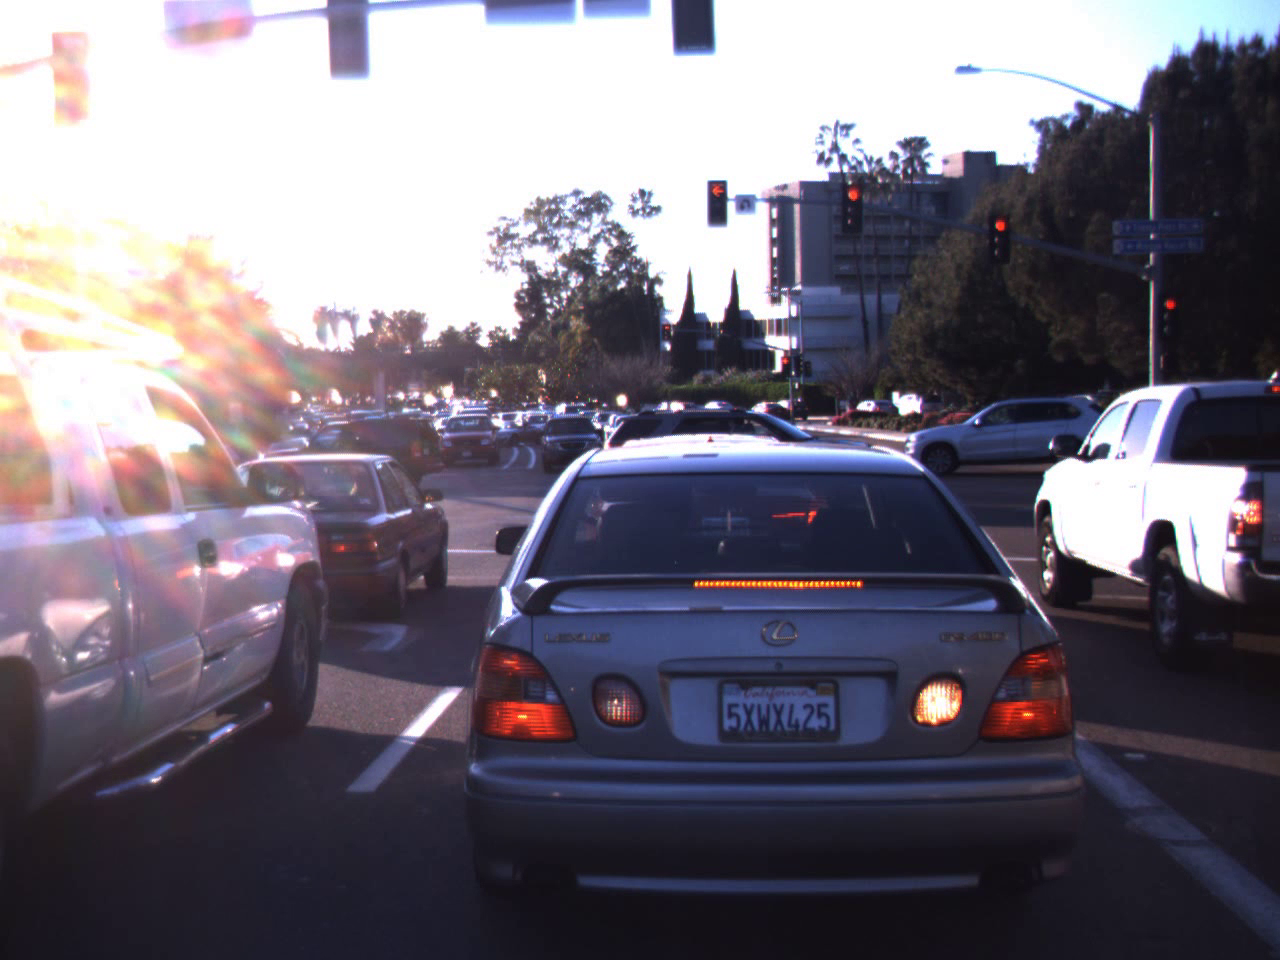Traffic_Light_stop: (841, 183, 864, 245), (990, 210, 1012, 265), (708, 182, 729, 230), (1164, 289, 1181, 334)
